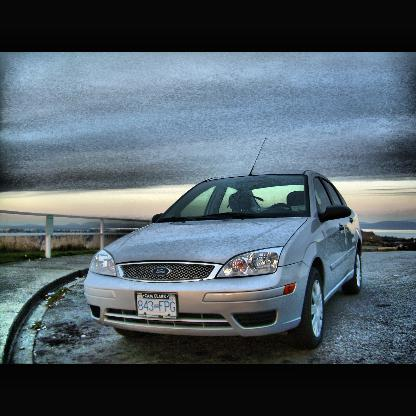Ford Focus Sedan 2007: (82, 173, 364, 352)
